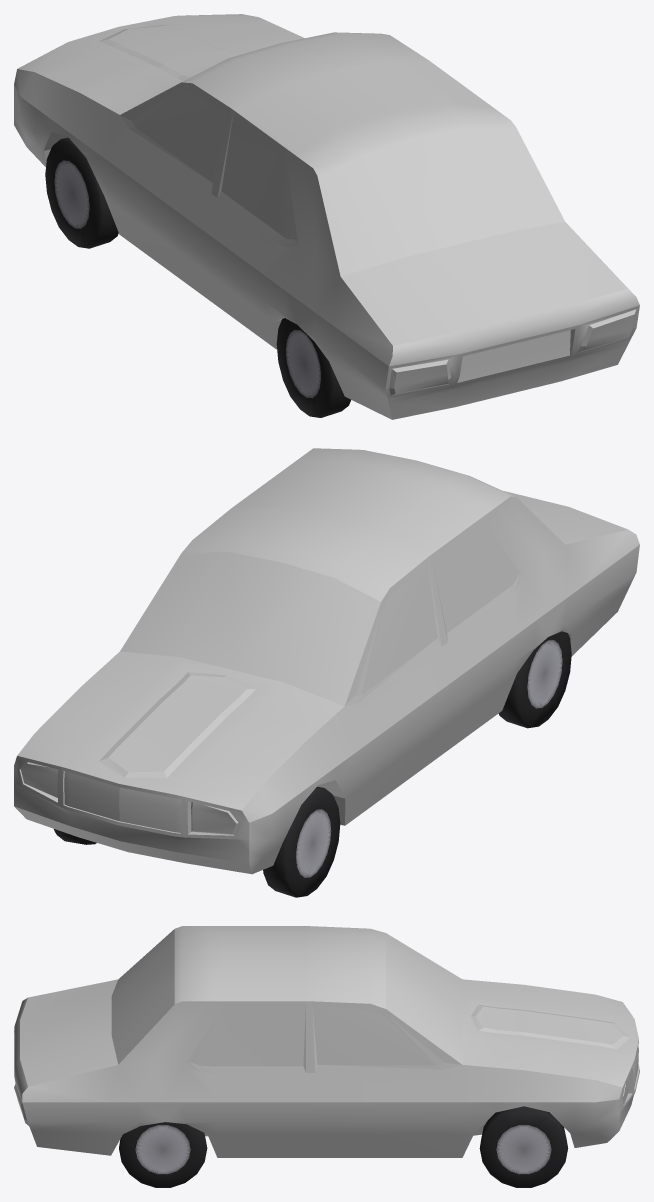
File: Car01.FBX
The picture shows the model from 3 angles, top to bottom: view 1: azimuth 30°, elevation 25°; view 2: azimuth 150°, elevation 25°; view 3: azimuth 270°, elevation 25°; orthographic projection. The views are drawn at different scales.
Parts seen in each view (by area): view 1: Body, FLWheel, FLWheel.001; view 2: Body, FLWheel, FLWheel.001; view 3: Body, FLWheel.003, FLWheel.002.
Part boxes in pixels (x1=…): Body: x1=14, y1=14, x2=639, y2=419; FLWheel: x1=45, y1=137, x2=118, y2=248; FLWheel.001: x1=276, y1=318, x2=350, y2=417; Body: x1=14, y1=448, x2=639, y2=874; FLWheel: x1=263, y1=786, x2=340, y2=897; FLWheel.001: x1=498, y1=631, x2=571, y2=728; Body: x1=14, y1=926, x2=639, y2=1157; FLWheel.003: x1=479, y1=1106, x2=568, y2=1187; FLWheel.002: x1=119, y1=1122, x2=207, y2=1187.
Bounding box in the file's own units: 154 × 145 × 426.
